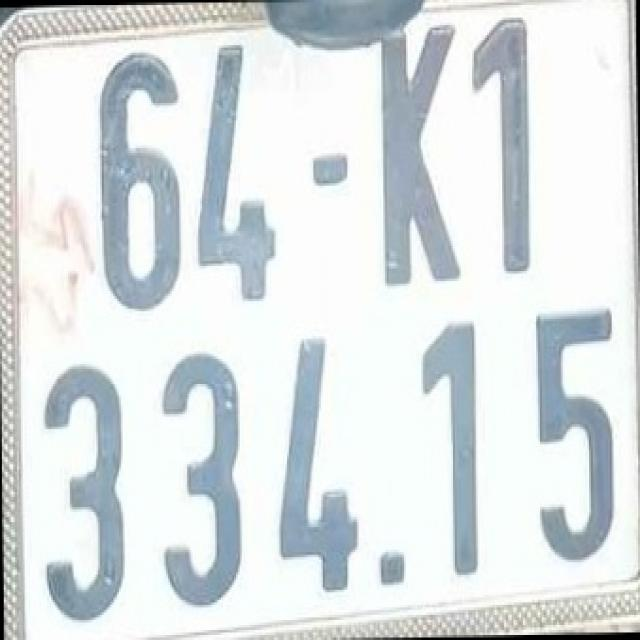1: (413, 308, 493, 580), (468, 12, 542, 278)
3: (151, 342, 249, 608), (38, 356, 132, 620)
4: (272, 329, 366, 597), (191, 38, 283, 308)
5: (525, 294, 619, 564)
6: (91, 43, 185, 316)
K: (372, 10, 466, 294)
